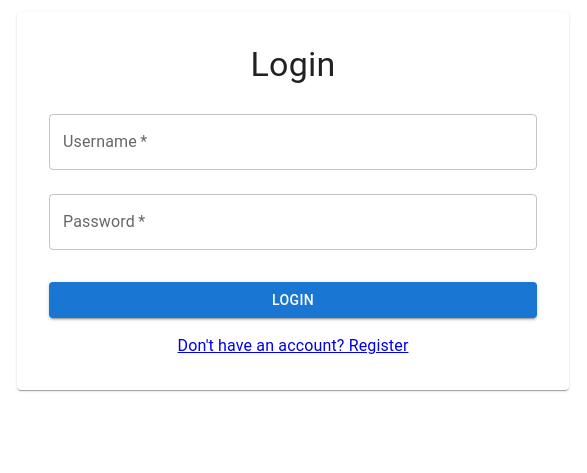
Scenario: LoginPage › handles login failure
Type "testuser" into the field labelled "Username *". click: (293, 142)
box: [49,114,537,170]
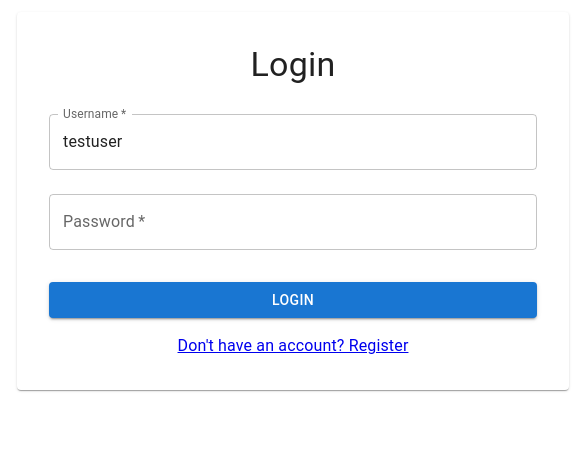
Type "wrongpassword" into the password field labelled "Password *". click: (293, 222)
box: [49,194,537,250]
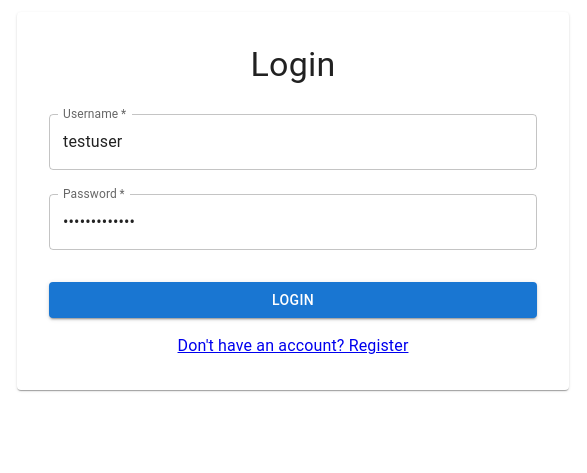
Click the button "Login". click: (293, 300)
box: [49,282,537,318]
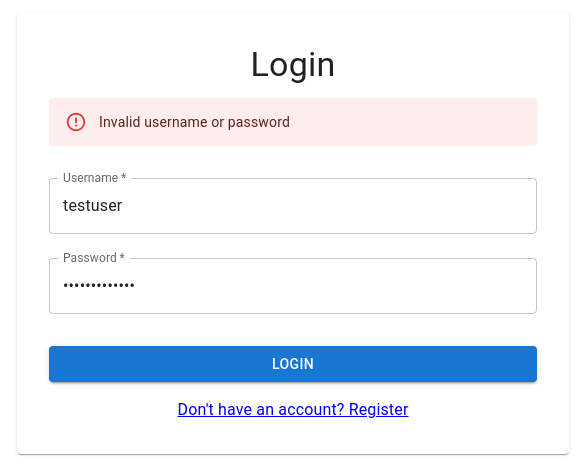
expect the text "Invalid username or password" is shown: met, box [99,114,290,130]
